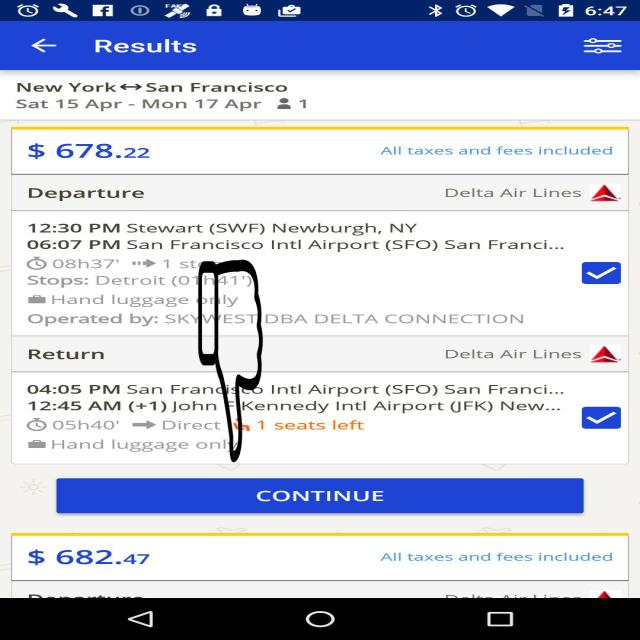obstruction: (197, 260, 264, 462)
